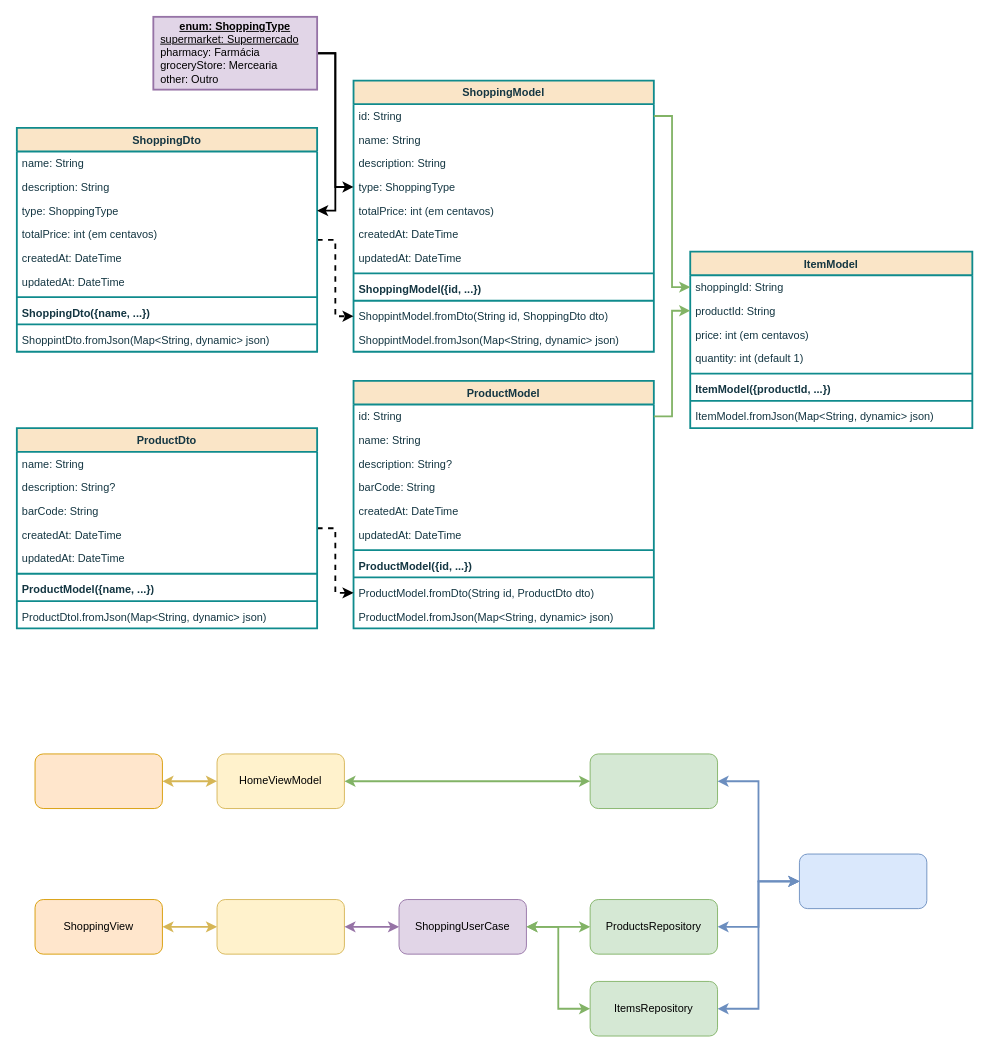
Some shapes in this 988 by 1052 pixel diagram are drawn without their labels. The shapes that lost their labels are listed below. From the top down, each one's box as (x1, y1, x2, y2) in pixels, then its label:
(34, 753, 162, 809): HomeView
(589, 753, 718, 809): ShoppingRepository
(799, 853, 927, 909): DatabaseService
(216, 899, 344, 954): ShoppingViewModel
